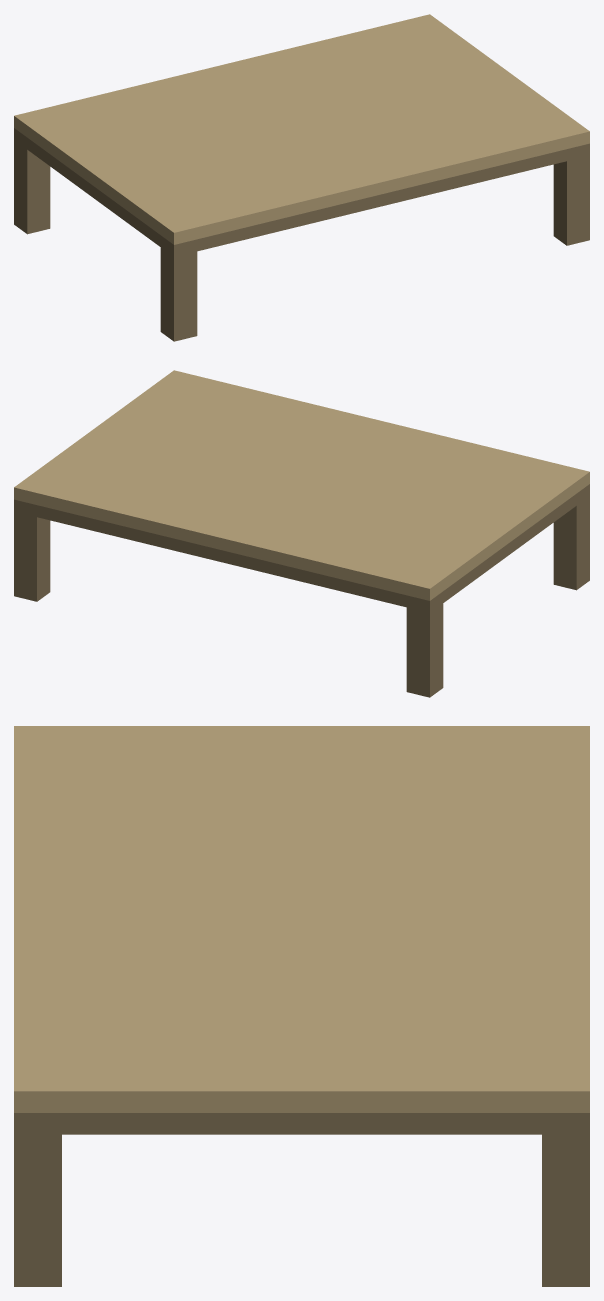
File: mesa_ajedrez_01.glb
3 views of the same model, one above another, from view 1: azimuth 30°, elevation 25°; view 2: azimuth 150°, elevation 25°; view 3: azimuth 270°, elevation 25° (orthographic). The views are drawn at different scales.
Parts seen in each view (by area): view 1: mesa_ajedrez; view 2: mesa_ajedrez; view 3: mesa_ajedrez.
Boxes of the visible parts, x1,y1,x2,y2 form: mesa_ajedrez: (14,14,589,341); mesa_ajedrez: (14,370,589,697); mesa_ajedrez: (14,726,589,1286).
Bounding box in the file's own units: 3 × 0.75 × 2.
